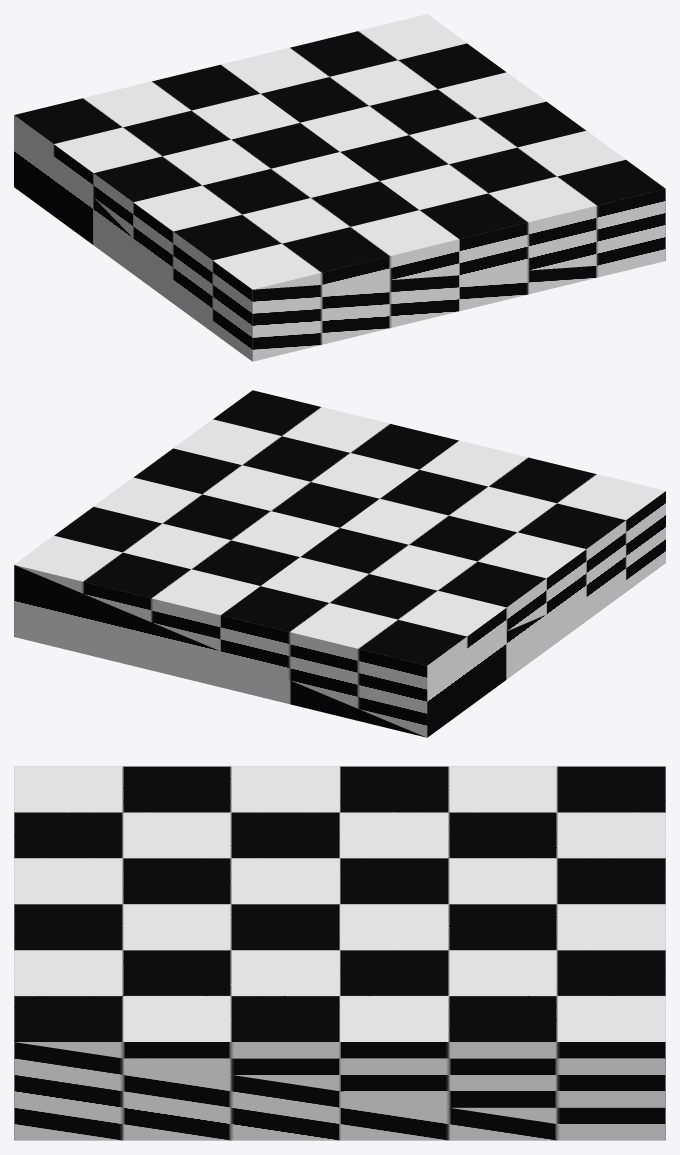
The model's file is boss1.glb.
3 renders of one model, top to bottom at view 1: azimuth 30°, elevation 25°; view 2: azimuth 150°, elevation 25°; view 3: azimuth 270°, elevation 25°, orthographic. The views are drawn at different scales.
Parts seen in each view (by area): view 1: Cube; view 2: Cube; view 3: Cube.
Part boxes in pixels (x1,y1,x2,y2): Cube: (14, 14, 665, 361); Cube: (14, 390, 665, 737); Cube: (14, 766, 665, 1140).
Bounding box in the file's own units: 120 × 20 × 120.
Materials: 1 (1 with a texture image).
